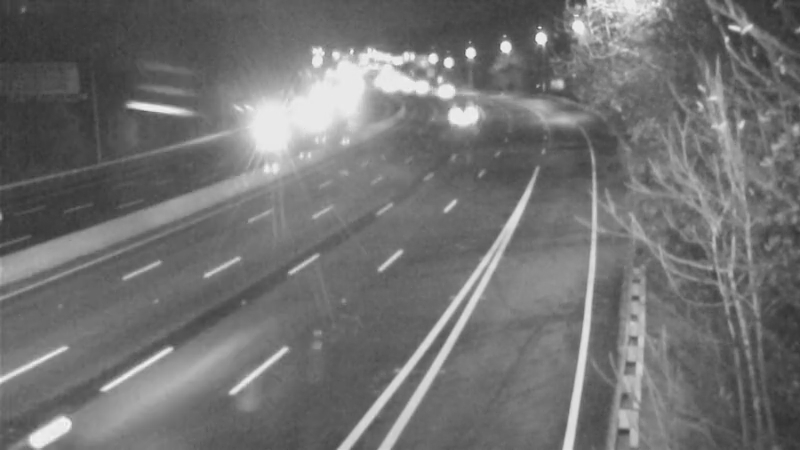vehicle: (417, 65, 467, 115), (426, 91, 476, 141), (246, 101, 296, 151), (277, 89, 327, 139)
